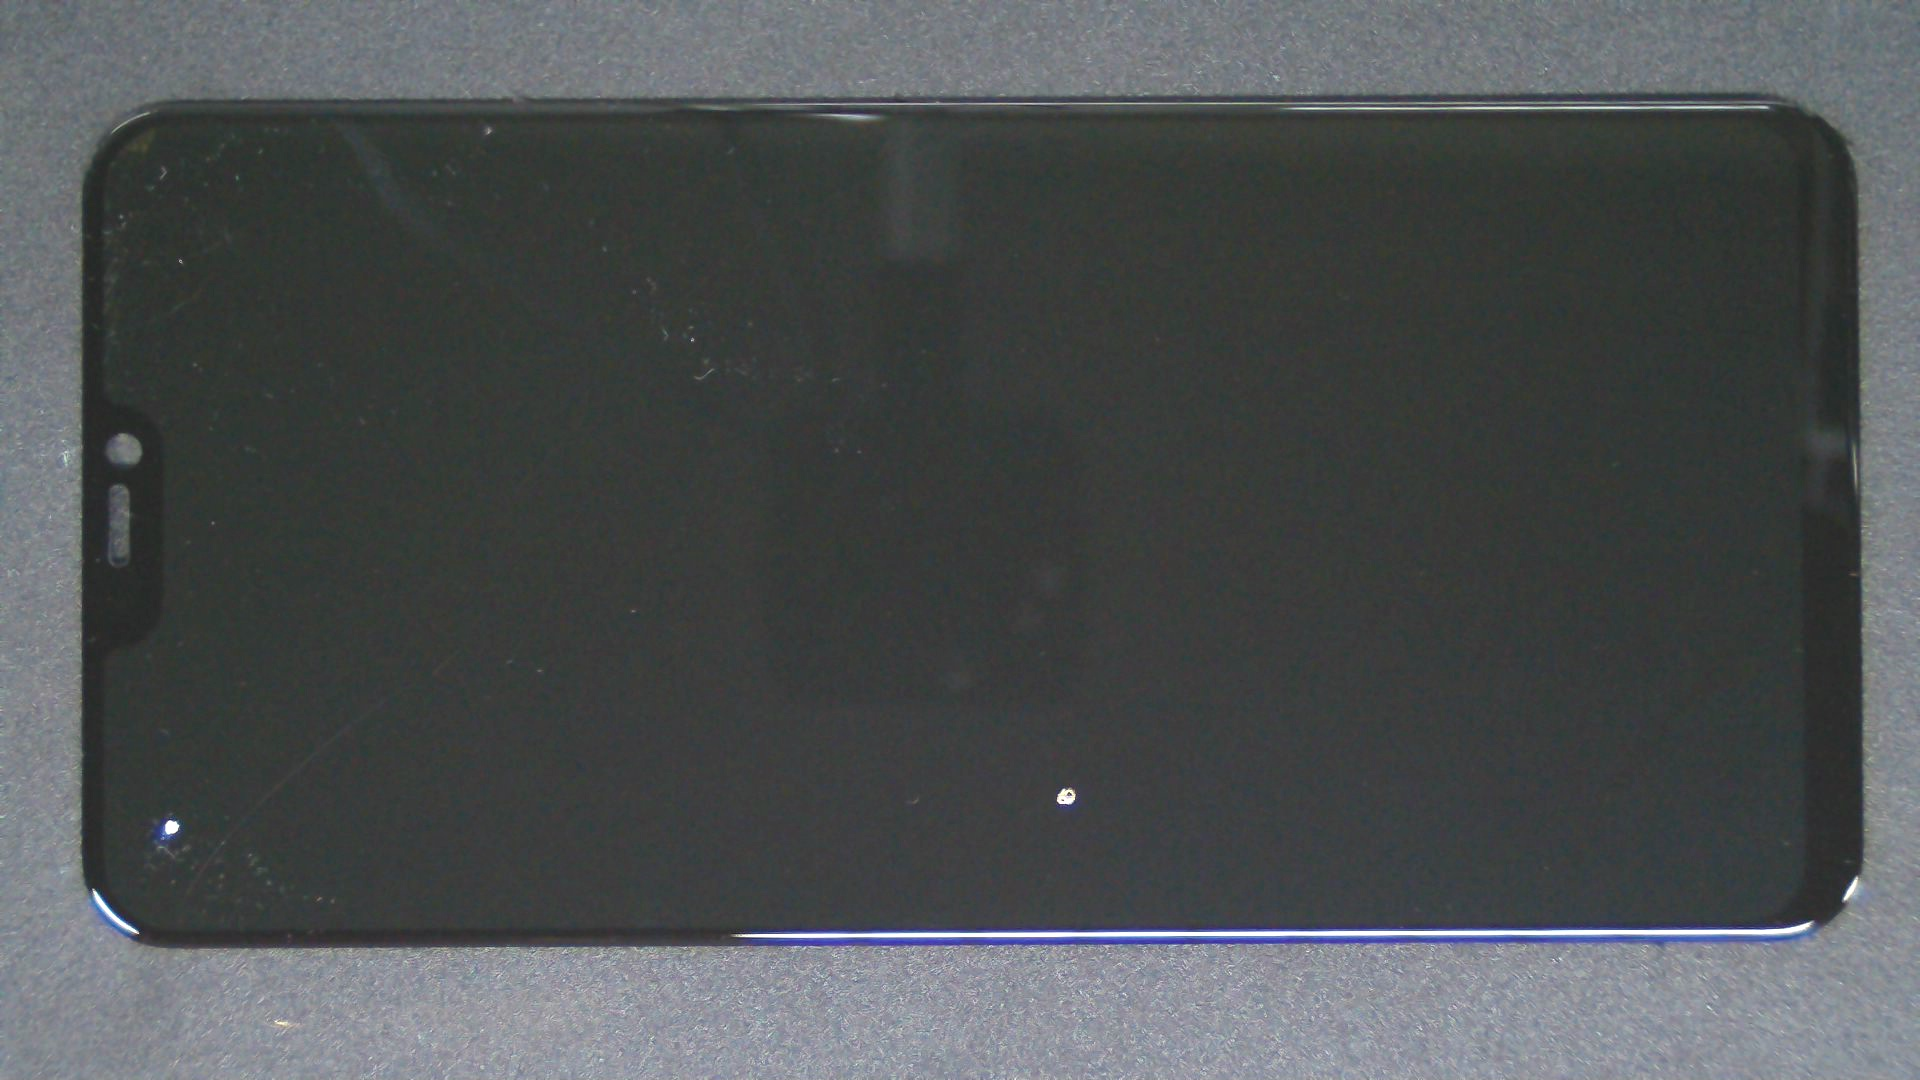oil: (537, 392, 1609, 1080), (84, 409, 248, 1080)
